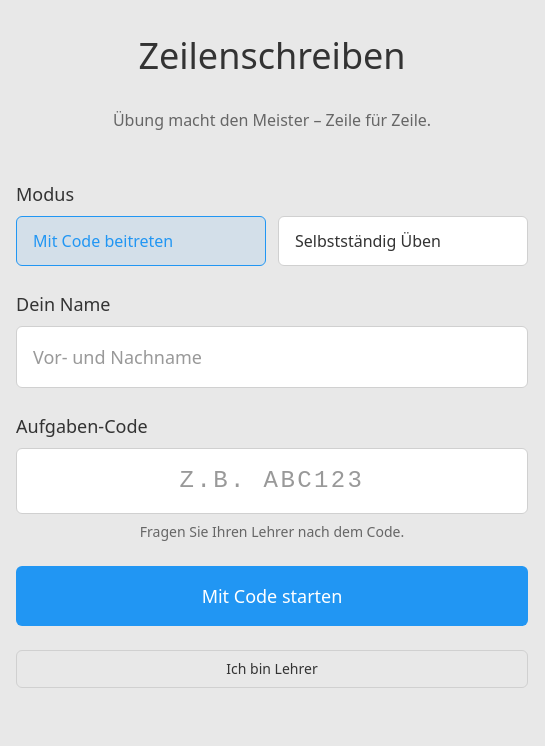
Scenario: StudentForm › Validation — code join mode › shows error when code is empty
Type "Max Mustermann" into the field with placeholder "Vor- und Nachname" at (272, 357), box [16,326,528,388]
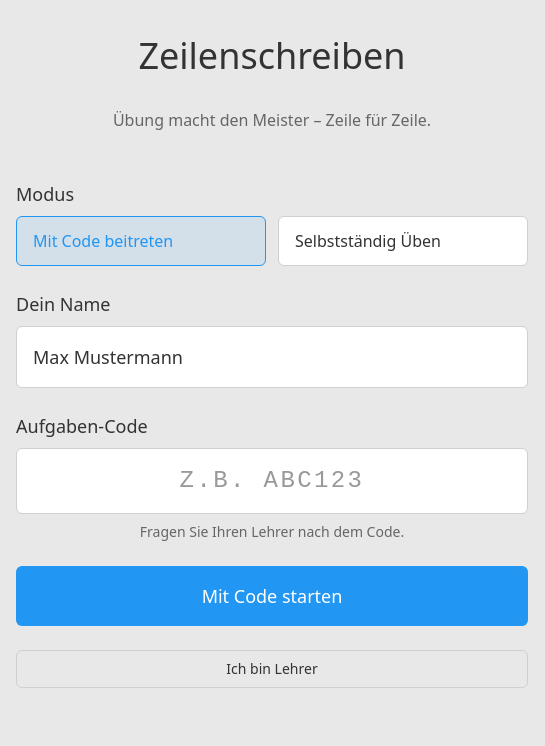
Click the button "Mit Code starten" at (272, 596), box [16,566,528,626]
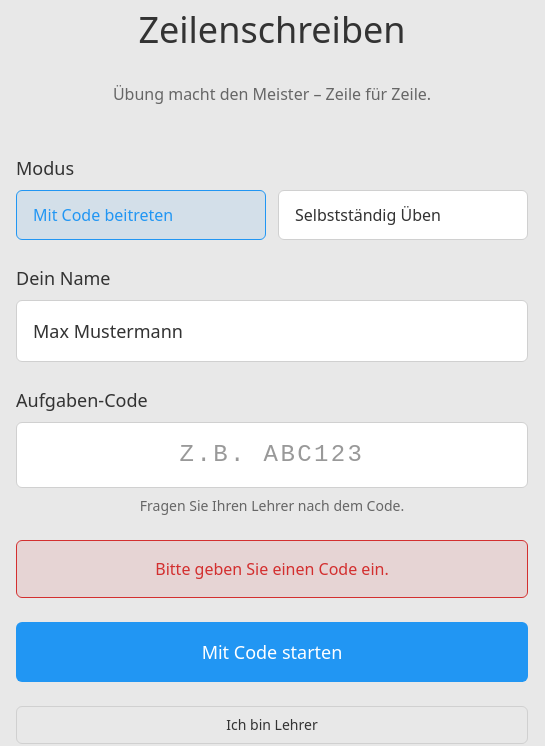
Expected: the text "Bitte geben Sie einen Code ein." is shown, [16,540,528,598]
